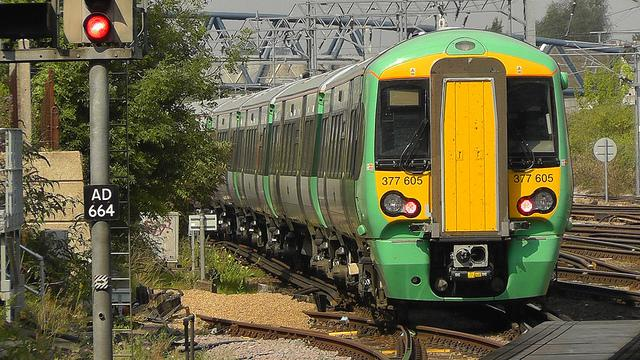Train: (191, 31, 572, 315)
